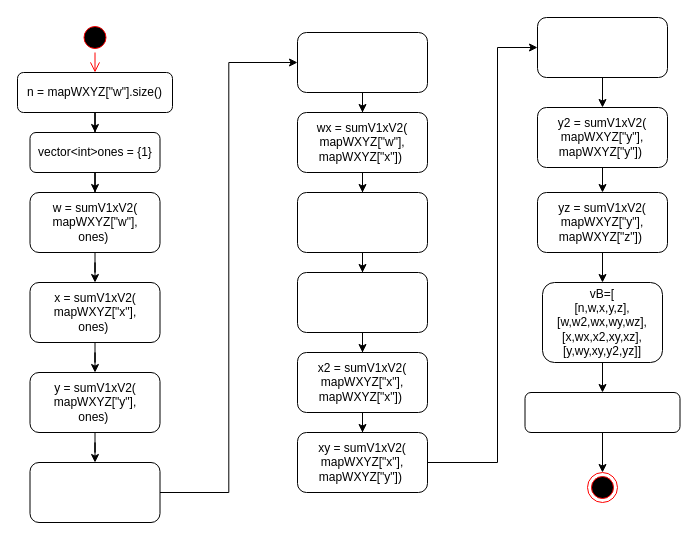
This 698x540 diagram has some shape labels left out. Here are the shapes that lost their labels. From the top down, the centre of each, then its label:
(362,62): w2 = sumV1xV2( mapWXYZ["w"], mapWXYZ["w"])
(602,47): xz = sumV1xV2( mapWXYZ["x"], mapWXYZ["z"])
(362,222): wy = sumV1xV2( mapWXYZ["w"], mapWXYZ["y"])
(362,302): wz = sumV1xV2( mapWXYZ["w"], mapWXYZ["z"])
(602,412): return vB
(94,492): z = sumV1xV2( mapWXYZ["z"], ones)
